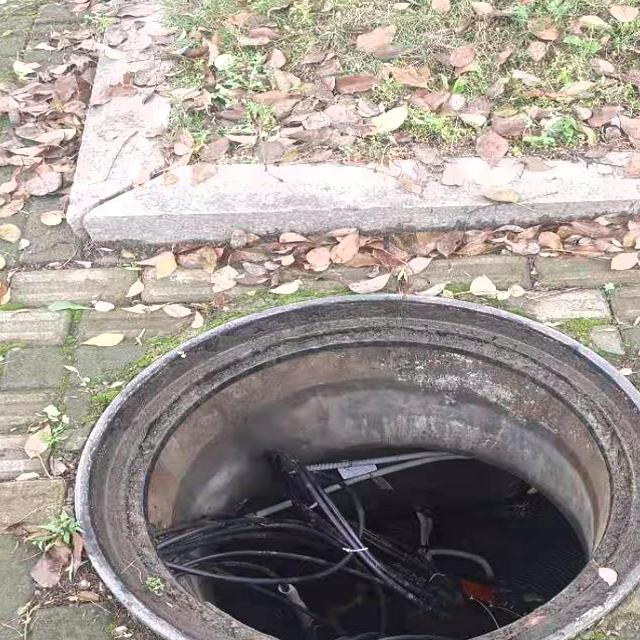lose: (81, 292, 640, 640)
